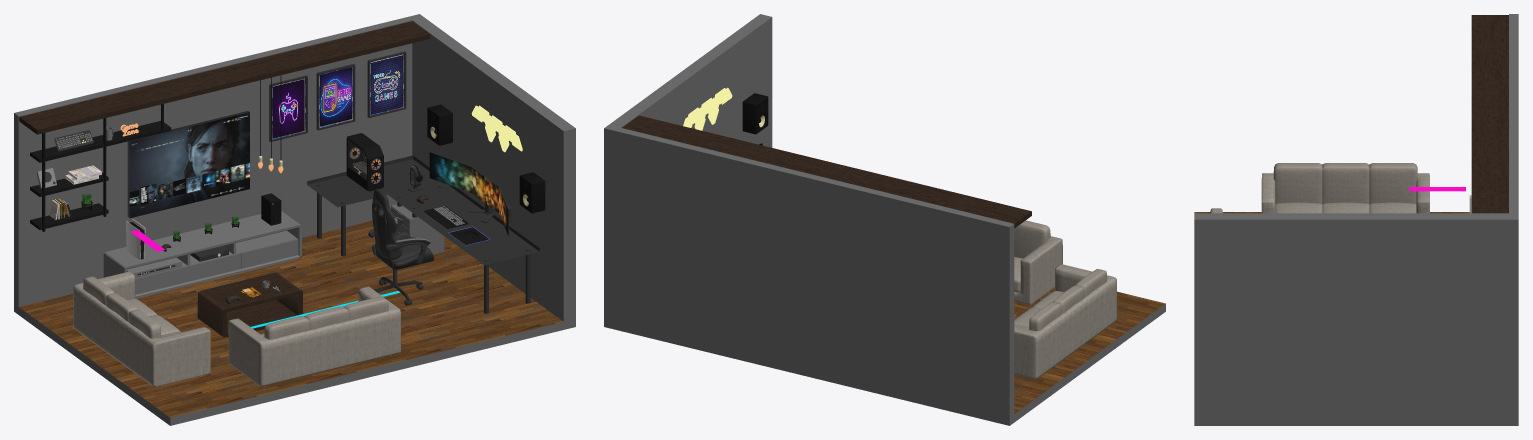
The model's file is room.glb.
3 views of the same model, side by side, from view 1: azimuth 30°, elevation 25°; view 2: azimuth 150°, elevation 25°; view 3: azimuth 270°, elevation 25° (orthographic). The views are drawn at different scales.
Parts seen in each view (by area): view 1: Plane, Plane.002, Cube.145, Cube.005, Cube.075, Plane.001, Plane.007, Cylinder.002, Plane.008, Cube.032, Cube.035, Cube.031 (+20 smaller); view 2: Plane, Cube.145, Cube.075, Cube.005, Cube.077, Cube.007, Cube.130, Plane.018, Cube.076; view 3: Plane, Cube.145, Cube.077, Cube.076, Cube.075.
Boxes of the visible parts, left/top/right/bottom form: Plane: left=14, top=14, right=575, bottom=425; Plane.002: left=127, top=111, right=249, bottom=218; Cube.145: left=19, top=21, right=430, bottom=134; Cube.005: left=228, top=286, right=400, bottom=386; Cube.075: left=73, top=271, right=210, bottom=386; Plane.001: left=307, top=155, right=539, bottom=265; Plane.007: left=103, top=211, right=301, bottom=298; Cylinder.002: left=197, top=272, right=302, bottom=337; Plane.008: left=135, top=239, right=298, bottom=294; Cube.032: left=316, top=64, right=355, bottom=130; Cube.035: left=367, top=51, right=406, bottom=117; Cube.031: left=269, top=75, right=307, bottom=141; Plane: left=604, top=14, right=1165, bottom=425; Cube.145: left=622, top=115, right=1031, bottom=228; Cube.075: left=1014, top=264, right=1116, bottom=379; Cube.005: left=1014, top=236, right=1062, bottom=305; Cube.077: left=1029, top=269, right=1106, bottom=331; Cube.007: left=1014, top=220, right=1050, bottom=258; Cube.130: left=742, top=93, right=768, bottom=134; Plane.018: left=683, top=87, right=732, bottom=130; Cube.076: left=1014, top=291, right=1063, bottom=329; Plane: left=1194, top=14, right=1518, bottom=425; Cube.145: left=1471, top=15, right=1508, bottom=213; Cube.077: left=1273, top=163, right=1417, bottom=204; Cube.076: left=1275, top=202, right=1416, bottom=213; Cube.075: left=1261, top=173, right=1429, bottom=213.
Size of what is drawn, in the model's own units: 12 by 5.77 by 8.
39 materials, 13 textured.
